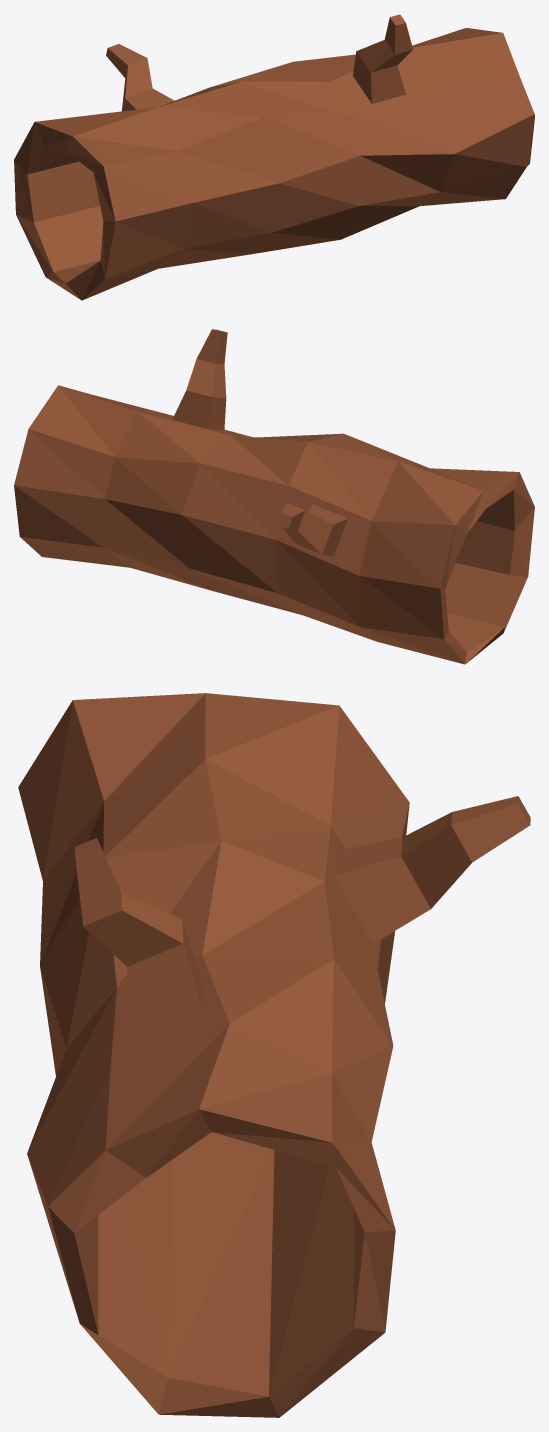
Rendered from Dandelion_Buche1_Clair.FBX.
The picture shows the model from 3 angles, top to bottom: view 1: azimuth 30°, elevation 25°; view 2: azimuth 150°, elevation 25°; view 3: azimuth 270°, elevation 25°; orthographic projection. The views are drawn at different scales.
Visible parts, largest first — view 1: Cylinder039; view 2: Cylinder039; view 3: Cylinder039.
Boxes of the visible parts, bbox=[...] form: Cylinder039: bbox=[14, 14, 534, 300]; Cylinder039: bbox=[14, 329, 534, 664]; Cylinder039: bbox=[18, 693, 530, 1417].
Size of the model in its own units: 828 by 402 by 415.
